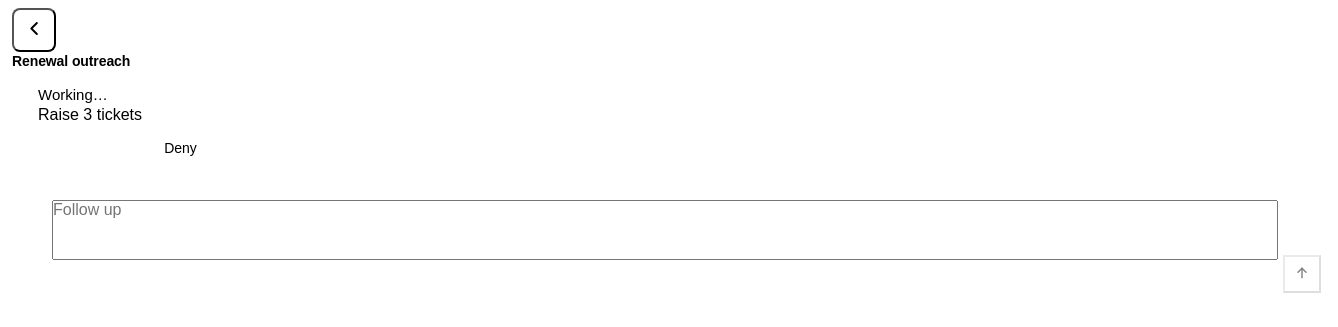
Test: mobile surface › reverts the optimistic settle when the kernel refuses the decision
Click the button "Deny". click: click(181, 148)
box: top-left (148, 126), bottom-right (213, 170)
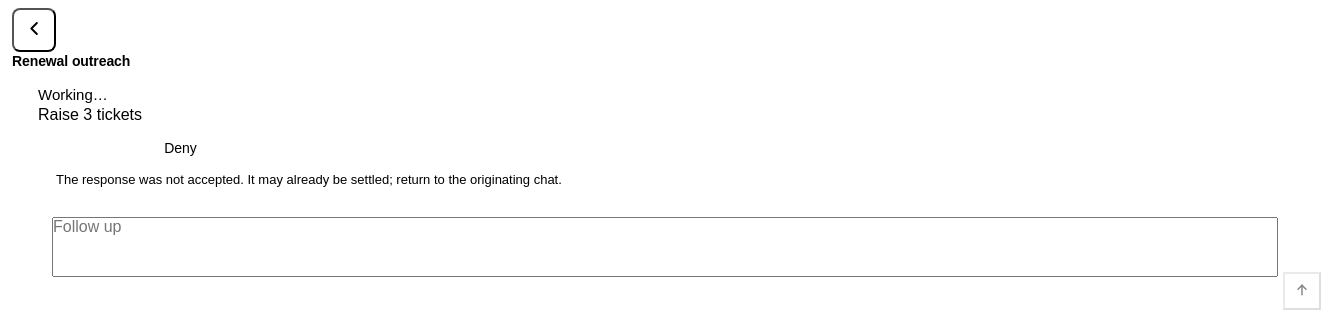
Now the text "was not accepted" is shown, box top-left (56, 172), bottom-right (562, 187)
